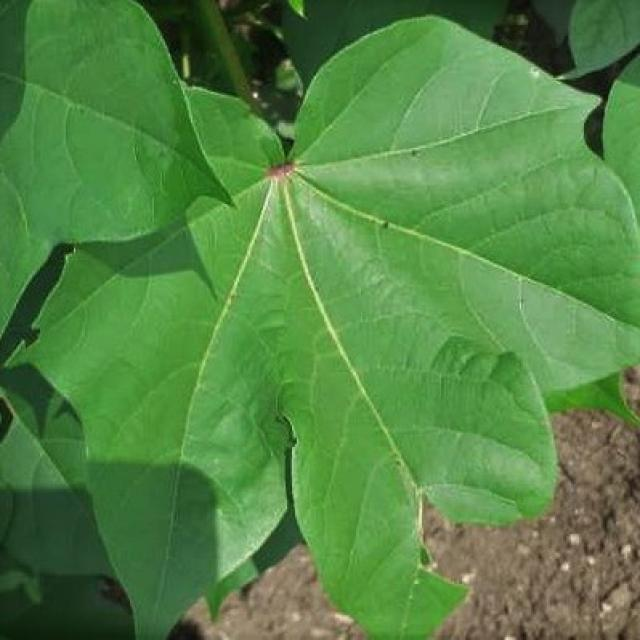Healthy Leaf: (56, 20, 592, 478)
